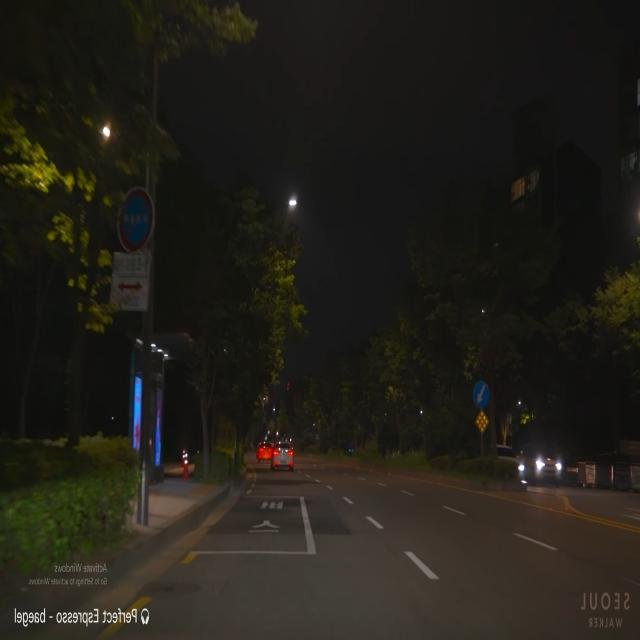headlights: (534, 454, 566, 482)
